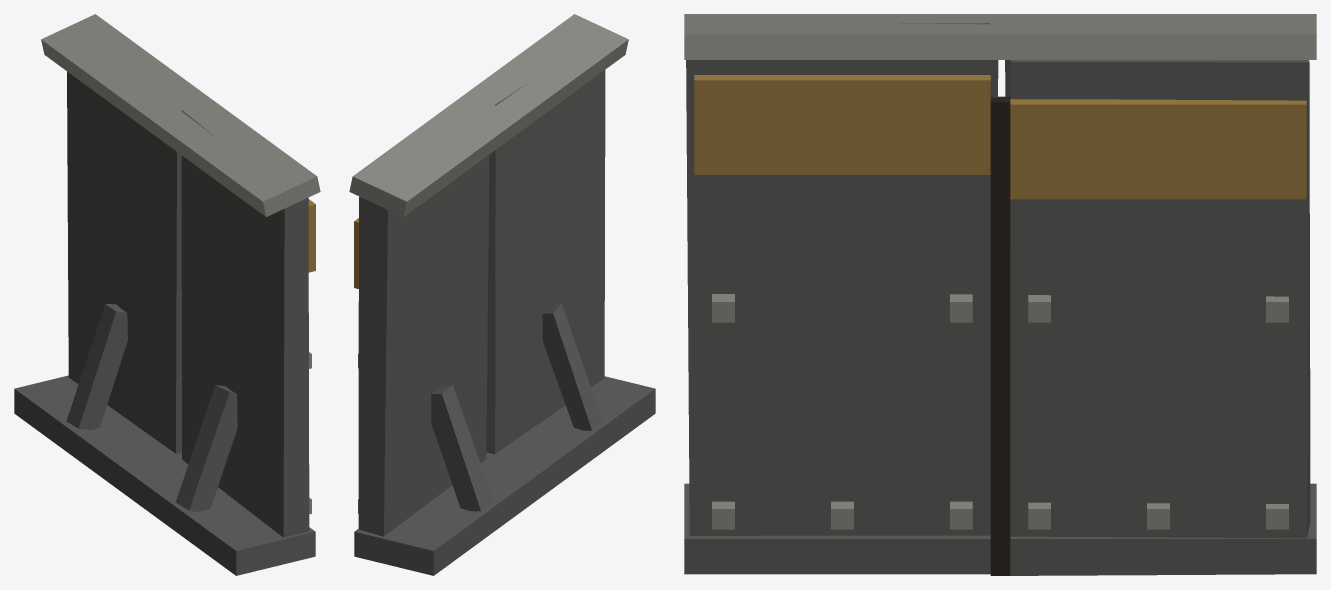
The model's file is arm_plates.glb.
3 renders of one model, left to right at view 1: azimuth 30°, elevation 25°; view 2: azimuth 150°, elevation 25°; view 3: azimuth 270°, elevation 25°, orthographic. The views are drawn at different scales.
Parts seen in each view (by area): view 1: arm_plates; view 2: arm_plates; view 3: arm_plates.
Boxes of the visible parts, x1,y1,x2,y2 form: arm_plates: (14, 14, 320, 575); arm_plates: (349, 14, 655, 575); arm_plates: (684, 14, 1316, 575).
Bounding box in the file's own units: 0.215 × 0.9206 × 0.968.
